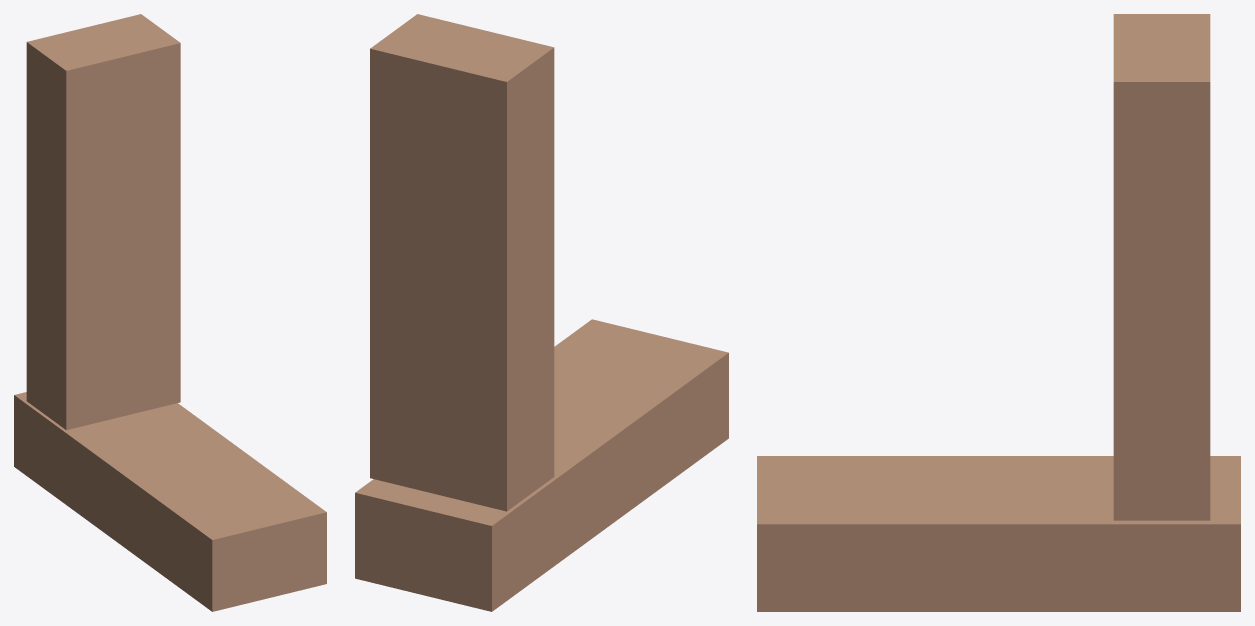
File: env16.dae
3 renders of one model, left to right at view 1: azimuth 30°, elevation 25°; view 2: azimuth 150°, elevation 25°; view 3: azimuth 270°, elevation 25°, orthographic. The views are drawn at different scales.
Visible parts, largest first — view 1: base (×2); view 2: base (×2); view 3: base (×2).
Part boxes in pixels (bbox=[...]): base (×2): bbox=[14, 14, 326, 611]; base (×2): bbox=[355, 14, 728, 611]; base (×2): bbox=[757, 14, 1240, 611].
Size of the model in its own units: 0.0508 by 0.1524 by 0.1841.
